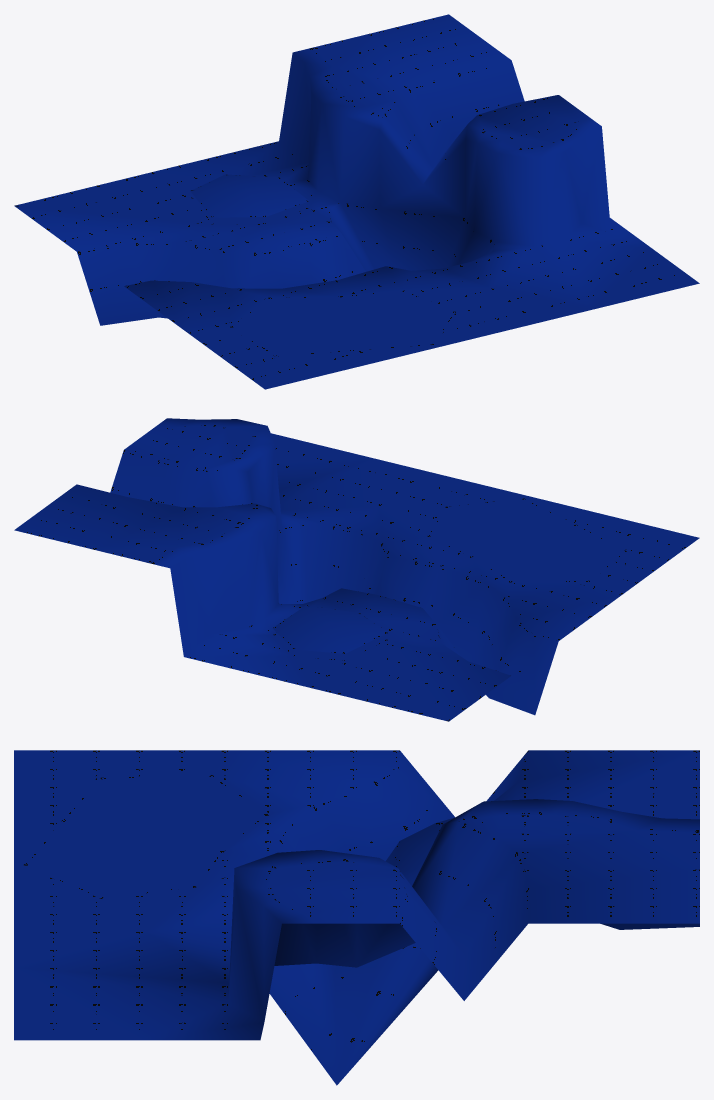
Rendered from GRD_S_C7_R3_2.fbx.
3 renders of one model, top to bottom at view 1: azimuth 30°, elevation 25°; view 2: azimuth 150°, elevation 25°; view 3: azimuth 270°, elevation 25°, orthographic. The views are drawn at different scales.
Visible parts, largest first — view 1: material_00022000, material_C0042000, material_00052000, material_C0032000, material_C0012000, material_C0062000; view 2: material_00022000, material_C0042000, material_00052000, material_C0032000, material_C0012000, material_C0062000; view 3: material_00022000, material_C0042000, material_C0032000, material_00052000.
Boxes of the visible parts, x1,y1,x2,y2 form: material_00022000: (14,14,699,389); material_C0042000: (77,60,524,325); material_00052000: (279,47,609,246); material_C0032000: (229,290,456,356); material_C0012000: (190,174,308,217); material_C0062000: (190,196,308,224); material_00022000: (14,426,699,721); material_C0042000: (110,450,558,715); material_00052000: (150,418,281,656); material_C0032000: (427,498,627,582); material_C0012000: (272,605,388,653); material_C0062000: (272,632,388,660); material_00022000: (14,750,699,1040); material_C0042000: (231,751,529,1085); material_C0032000: (23,774,269,899); material_00052000: (228,799,699,1035).
Bounding box in the file's own units: 12800 × 5600 × 12800.
